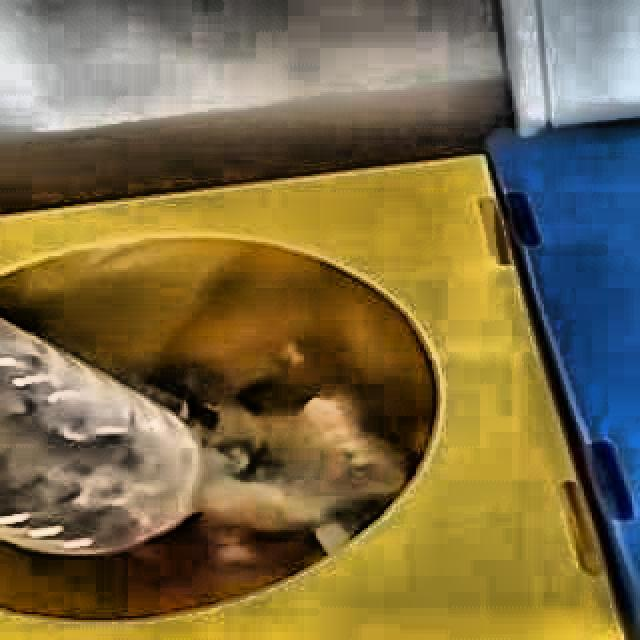plastic: (0, 318, 203, 556)
